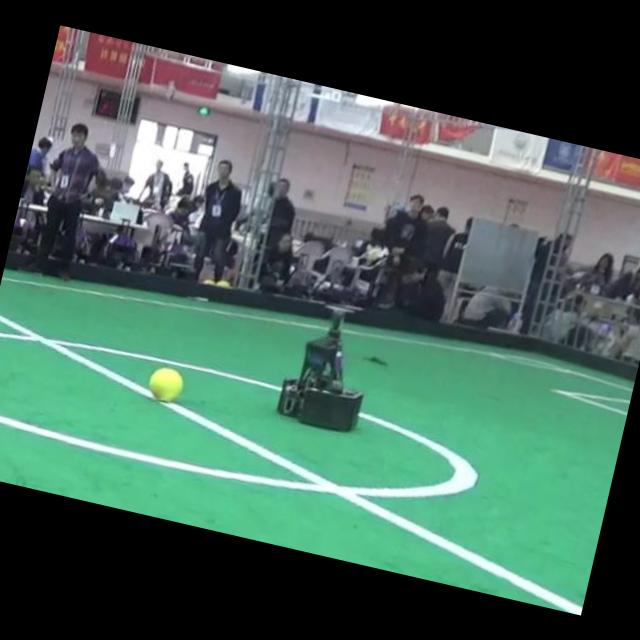ball: (148, 366, 183, 401)
robot: (276, 304, 363, 430)
